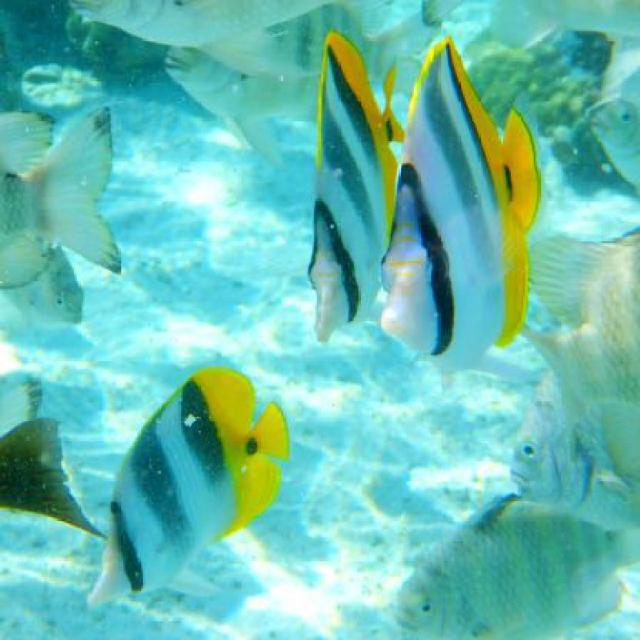ButterflyFish: (380, 37, 538, 364), (90, 365, 283, 607), (310, 31, 402, 347)
